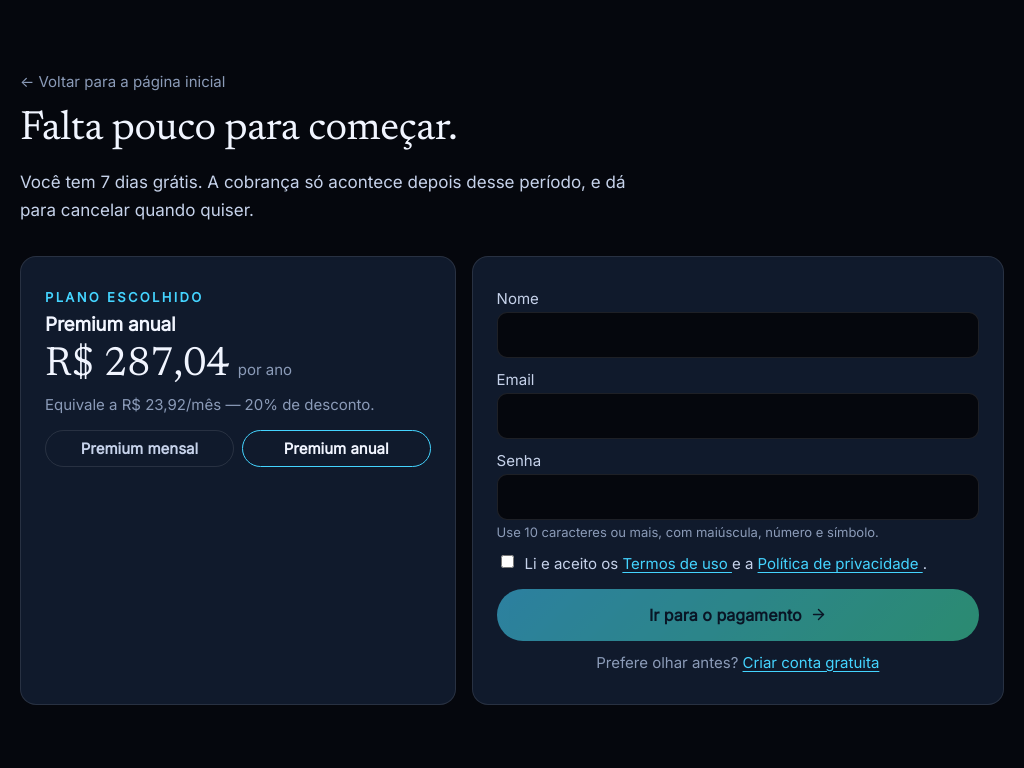
Test: landing checkout page › shows the outcome message when the API refuses the purchase
The image size is (1024, 768).
In the field with test id "landing-checkout-name": (738, 335) [497,312,979,358], type "Italo"
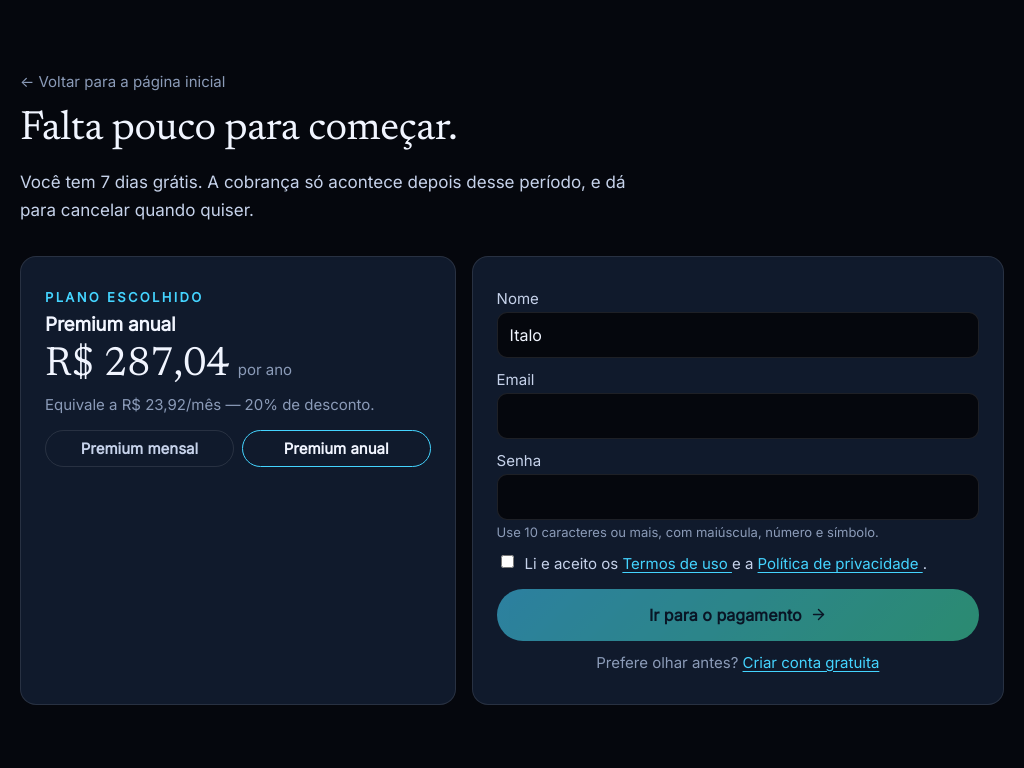
In the field with test id "landing-checkout-email": (738, 416) [497,393,979,439], type "italo@auraxis.com.br"
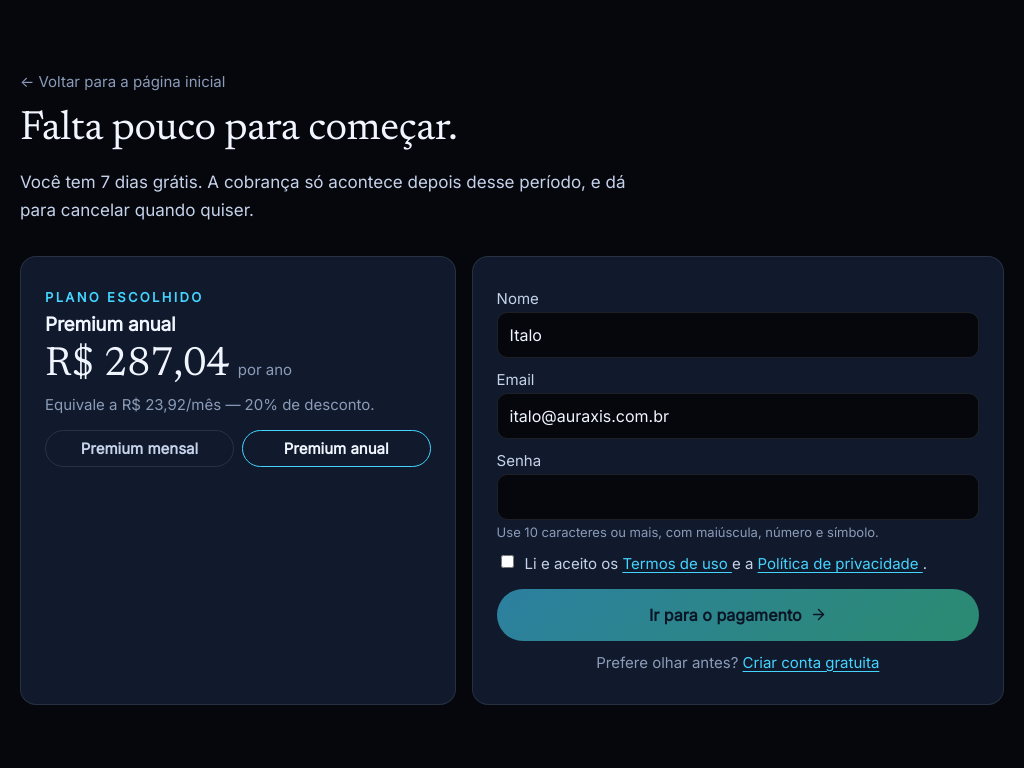
In the password field with test id "landing-checkout-password": (738, 497) [497,474,979,520], type "Senha!Forte-123"
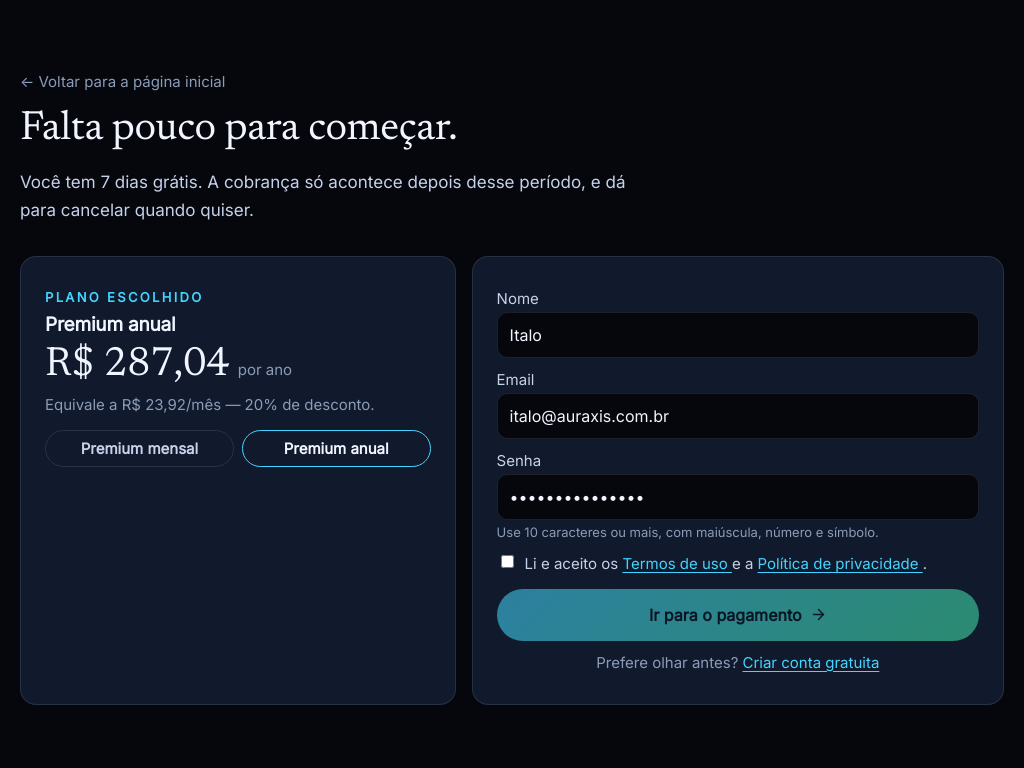
Click the checkbox with test id "landing-checkout-terms": (507, 561) [501,555,514,568]
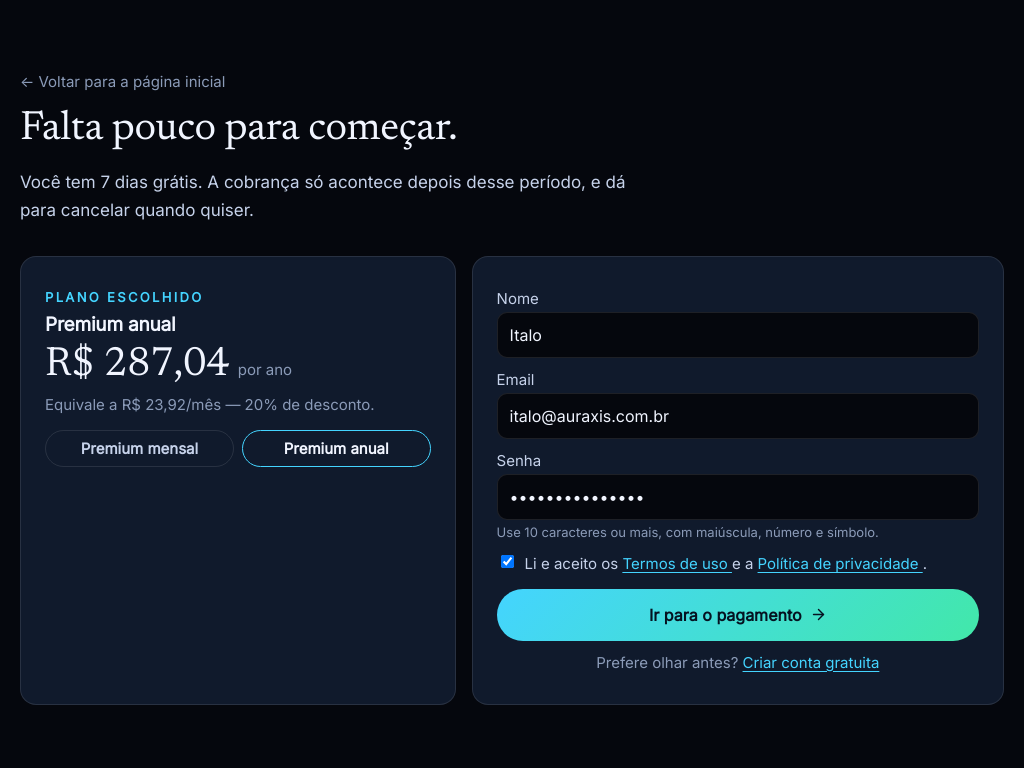
Submit the form, box [497,289,979,672]
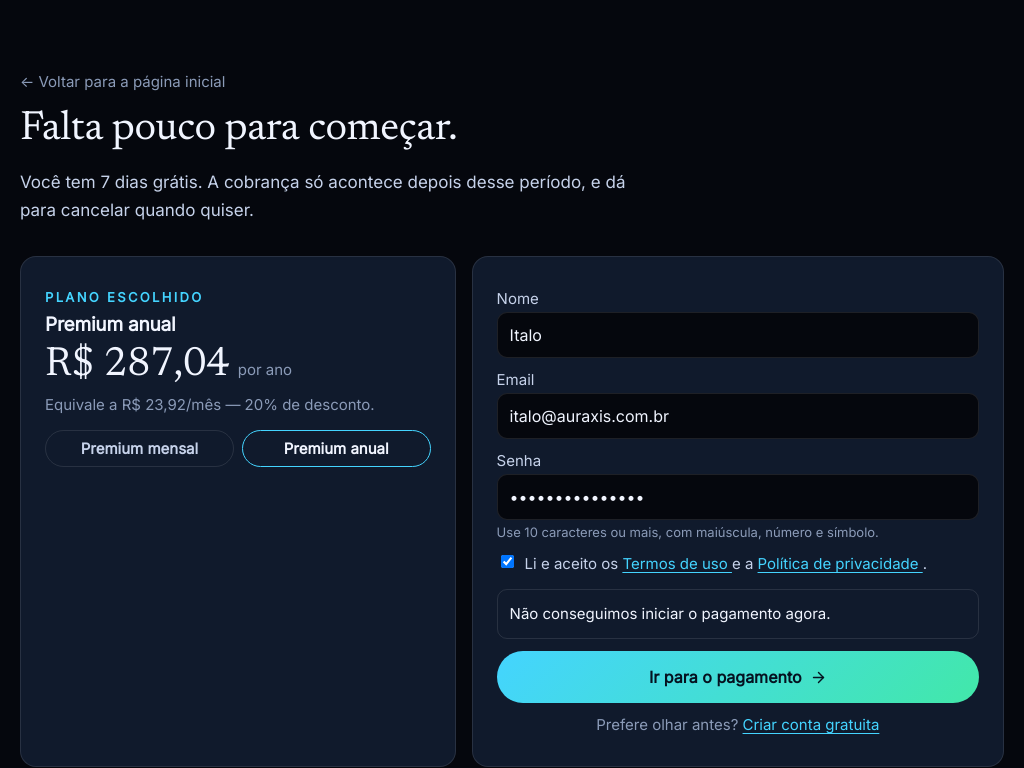
Check: the text "Ir para o pagamento" is shown, box [497,651,979,703]
Check: the message with test id "landing-checkout-error" reads "Não conseguimos iniciar o pagamento agora.", box [510,604,830,623]
